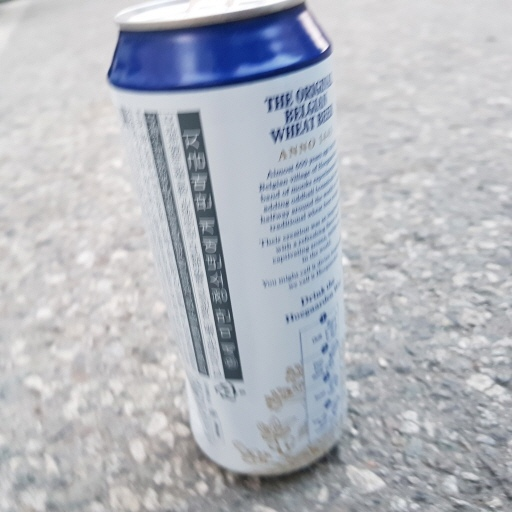Metal_0: (103, 1, 357, 479)
